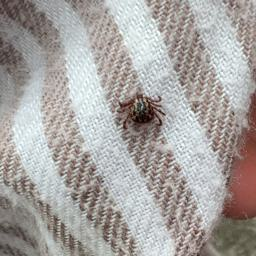Dermacentor variabilis: (116, 95, 168, 131)
